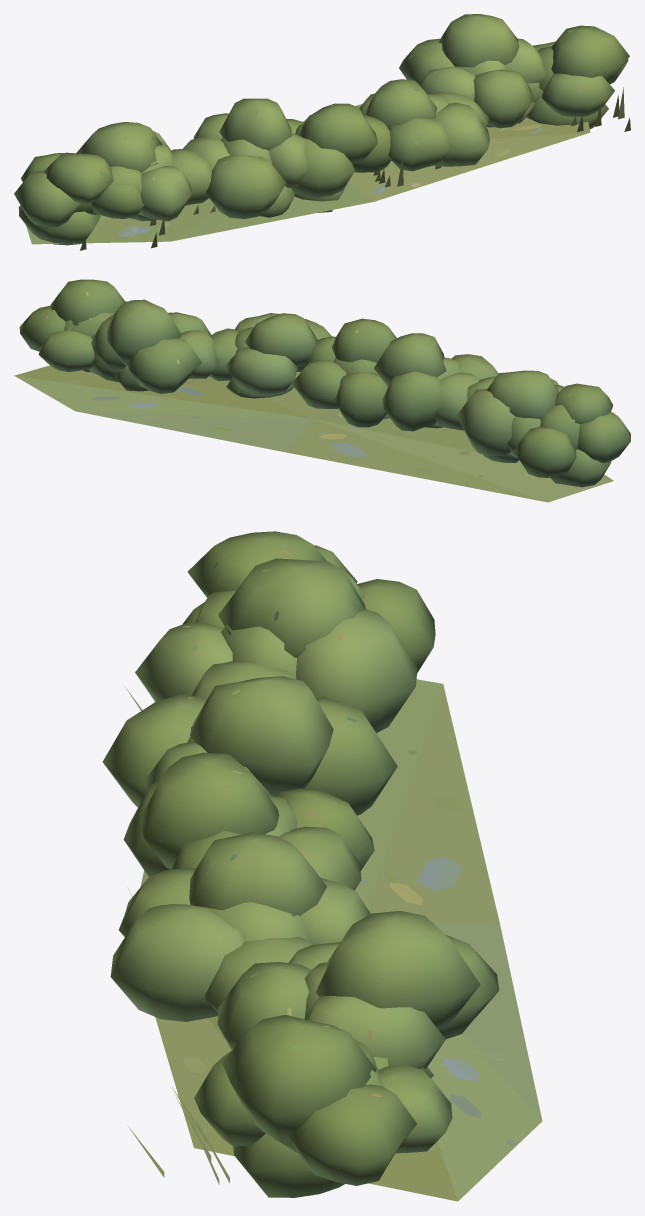
File: ART_MoatBankPatch.glb
3 views of the same model, one above another, from view 1: azimuth 30°, elevation 25°; view 2: azimuth 150°, elevation 25°; view 3: azimuth 270°, elevation 25° (orthographic). The views are drawn at different scales.
Parts seen in each view (by area): view 1: ART_MoatBankPatch; view 2: ART_MoatBankPatch; view 3: ART_MoatBankPatch.
Boxes of the visible parts, x1,y1,x2,y2 form: ART_MoatBankPatch: (14, 14, 630, 250); ART_MoatBankPatch: (14, 279, 630, 502); ART_MoatBankPatch: (102, 531, 542, 1201).
Size of the model in its own units: 6.43 by 1.14 by 2.08.
